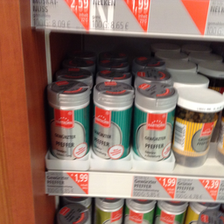spices: (175, 87, 224, 168), (133, 83, 178, 160), (47, 80, 91, 158), (92, 81, 133, 158)
